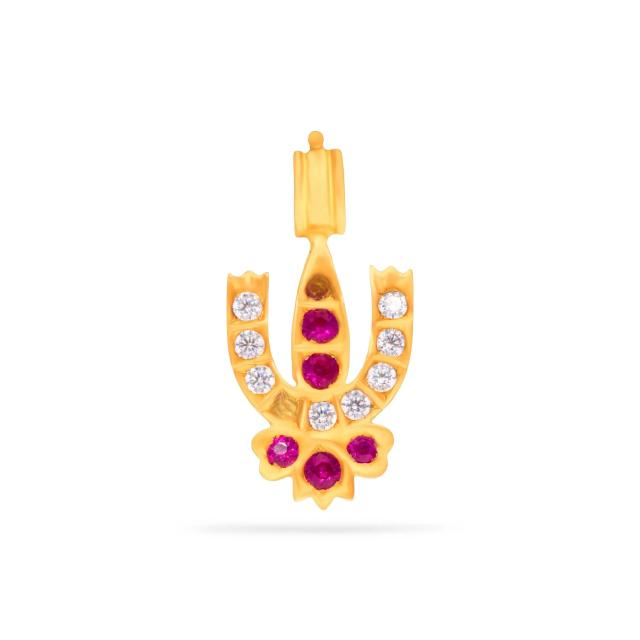missing gem: (305, 274, 334, 300)
